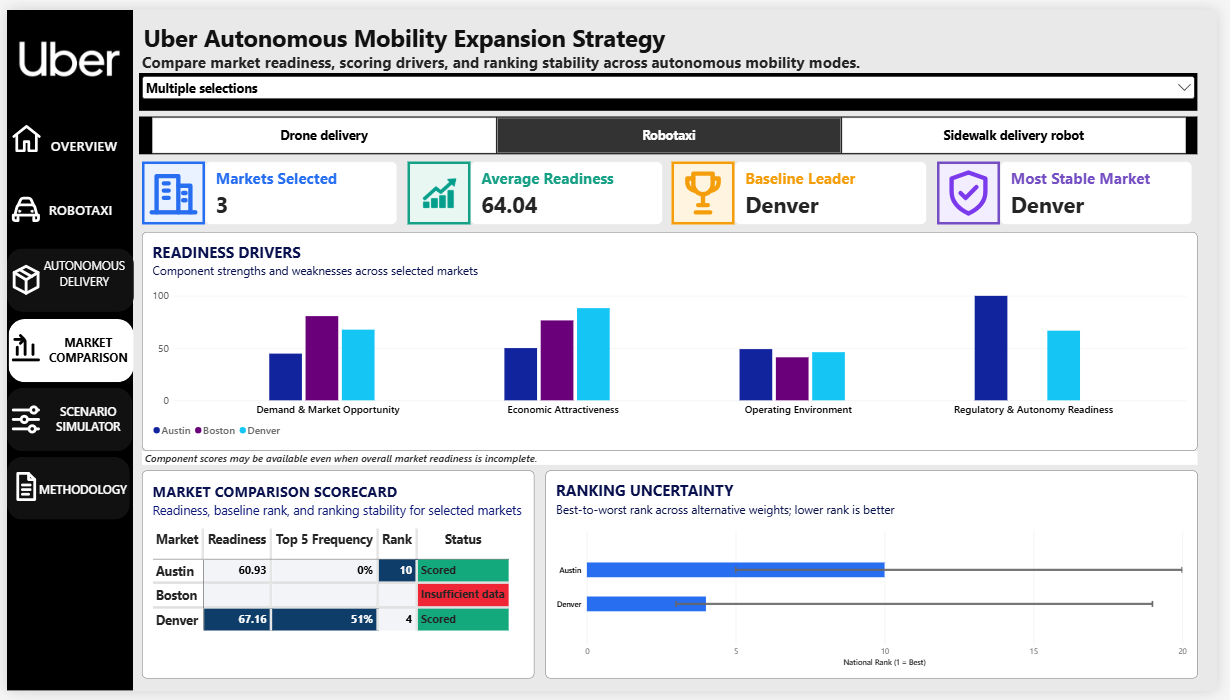

The dashboard page shown, as its layout file describes it:
{"tool":"powerbi","page":{"name":"Market Comparison","canvas":[1920,1080],"ordinal":3},"visuals":[{"type":"shape","box":[0,162.5,198.7,100.8],"z":0},{"type":"cardVisual","fields":{"Data":["_Measures.Markets Selected"]},"box":[315,240,305,100],"z":0,"group":"g4"},{"type":"cardVisual","fields":{"Data":["_Measures.Baseline Leader"]},"box":[1155,240,305,100],"z":0,"group":"g6"},{"type":"shape","box":[0,272.5,200,100],"z":0,"group":"g8"},{"type":"shape","box":[0,377.5,201.3,100.4],"z":0,"group":"g9"},{"type":"shape","box":[2.5,490,198.7,100.4],"z":0,"group":"g7"},{"type":"shape","box":[0,600,198.7,100.4],"z":0,"group":"g2"},{"type":"shape","box":[0,710,194.8,99.2],"z":0,"group":"g3"},{"type":"shape","box":[0,0,200,1080],"z":1000},{"type":"image","box":[215,240,100,100],"z":1000,"group":"g4"},{"type":"image","box":[1055,240,100,100],"z":1000,"group":"g6"},{"type":"textbox","box":[216,0,1704,96],"z":2000},{"type":"textbox","box":[215,47.5,1500,72.5],"z":3000},{"type":"image","box":[0,270,60,90],"z":3000,"group":"g8"},{"type":"actionButton","box":[528.9,447.9,200,100],"z":4000},{"type":"image","box":[0,0,200,165.6],"z":5000},{"type":"actionButton","box":[0,160,200,100],"z":6000},{"type":"group","id":"g1","title":"Group 3","box":[0,377.5,200,100],"z":7000},{"type":"group","id":"g2","title":"Group 6","box":[0,600,200,100],"z":8000},{"type":"group","id":"g3","title":"Group 7","box":[0,710,200,99.2],"z":9000},{"type":"actionButton","box":[0,905,198.4,93.5],"z":10000},{"type":"actionButton","box":[0,272.5,200,100],"z":11000},{"type":"actionButton","box":[0,502.5,198.4,102],"z":12000},{"type":"actionButton","box":[0,605,200,100],"z":13000},{"type":"textbox","box":[57.5,200,130.4,37.8],"z":14000},{"type":"actionButton","box":[0,710,200,100],"z":15000},{"type":"image","box":[2.5,165,57.5,80],"z":16000},{"type":"slicer","fields":{"Values":["PBI_DIM_MARKET.MARKET_SHORT_NAME"]},"box":[210,100,1680,60],"z":17000},{"type":"slicer","title":"Select Autonomous Mobility Mode","fields":{"Values":["PBI_DIM_MODE.MODE_NAME"]},"box":[210,170,1680,60],"z":18000},{"type":"cardVisual","fields":{"Data":["_Measures.Most Stable Market"]},"box":[1575,240,305,100],"z":19000},{"type":"image","box":[1475,240,100,100],"z":20000},{"type":"textbox","box":[38.8,303.8,157.5,45],"z":20000,"group":"g8"},{"type":"textbox","box":[53.2,391,140.7,55.2],"z":20000,"group":"g9"},{"type":"textbox","box":[60,514.3,138.9,55.2],"z":20000,"group":"g7"},{"type":"textbox","box":[59.5,624.5,138.9,55.2],"z":20000,"group":"g2"},{"type":"textbox","box":[40,747.5,160,35],"z":20000,"group":"g3"},{"type":"group","id":"g4","title":"Group 1","box":[215,240,405,100],"z":21000},{"type":"image","box":[0,389.8,60.8,75.7],"z":21000,"group":"g9"},{"type":"group","id":"g5","title":"Group 8","box":[635,240,405,100],"z":22000},{"type":"group","id":"g6","title":"Group 9","box":[1055,240,405,100],"z":23000},{"type":"image","box":[1.2,612.4,60,75.7],"z":23001,"group":"g2"},{"type":"image","box":[0,719.1,58.8,74.8],"z":23001,"group":"g3"},{"type":"pivotTable","title":"MARKET COMPARISON SCORECARD","fields":{"Rows":["PBI_DIM_MARKET.MARKET_SHORT_NAME"],"Values":["_Measures.Market Readiness Score","_Measures.Top 5 Frequency","_Measures.Selected Baseline Rank","_Measures.Market Score Status"]},"box":[215,730,622.5,330],"z":24000},{"type":"group","id":"g7","title":"Group 5","box":[0,490,200,100],"z":25000},{"type":"cardVisual","fields":{"Data":["_Measures.Average Selected Readiness"]},"box":[735,240,305,100],"z":25005,"group":"g5"},{"type":"image","box":[635,240,100,100],"z":25011,"group":"g5"},{"type":"image","box":[0,490,60,97.3],"z":25017,"group":"g7"},{"type":"group","id":"g8","title":"Group 10","box":[0,270,200,102.5],"z":25020,"group":"g10"},{"type":"group","id":"g9","title":"Group 11","box":[0,377.5,200,100],"z":25020,"group":"g1"},{"type":"group","id":"g10","title":"Group 4","box":[0,270,200,102.5],"z":26000},{"type":"actionButton","box":[0,377.5,200,100],"z":27000},{"type":"clusteredColumnChart","title":"READINESS DRIVERS","fields":{"Category":["PBI_DIM_COMPONENT.COMPONENT_NAME"],"Series":["PBI_DIM_MARKET.MARKET_SHORT_NAME"],"Y":["_Measures.Component Score"]},"box":[215,352.5,1675,347.5],"z":28000},{"type":"textbox","box":[215,700,1675,22],"z":29000},{"type":"clusteredBarChart","title":"RANKING UNCERTAINTY","fields":{"Category":["PBI_DIM_MARKET.MARKET_SHORT_NAME"],"Y":["_Measures.Selected Baseline Rank"]},"box":[855,730,1035,330],"z":30000},{"type":"actionButton","box":[0,277.1,200,92.9],"z":30001,"group":"g10"}]}

Visuals, with their boxes on the page's 1920x1080 design canvas (x1, y1, x2, y2). These are canvas units, not pixel positions in the 1230x700 screenshot, which may show the page scaled, cropped or inside an application window:
shape: left=0, top=162, right=199, bottom=263
cardVisual - _Measures.Markets Selected: left=315, top=240, right=620, bottom=340
cardVisual - _Measures.Baseline Leader: left=1155, top=240, right=1460, bottom=340
shape: left=0, top=272, right=200, bottom=372
shape: left=0, top=378, right=201, bottom=478
shape: left=2, top=490, right=201, bottom=590
shape: left=0, top=600, right=199, bottom=700
shape: left=0, top=710, right=195, bottom=809
shape: left=0, top=0, right=200, bottom=1080
image: left=215, top=240, right=315, bottom=340
image: left=1055, top=240, right=1155, bottom=340
textbox: left=216, top=0, right=1920, bottom=96
textbox: left=215, top=48, right=1715, bottom=120
image: left=0, top=270, right=60, bottom=360
actionButton: left=529, top=448, right=729, bottom=548
image: left=0, top=0, right=200, bottom=166
actionButton: left=0, top=160, right=200, bottom=260
"Group 3" group: left=0, top=378, right=200, bottom=478
"Group 6" group: left=0, top=600, right=200, bottom=700
"Group 7" group: left=0, top=710, right=200, bottom=809
actionButton: left=0, top=905, right=198, bottom=998
actionButton: left=0, top=272, right=200, bottom=372
actionButton: left=0, top=502, right=198, bottom=604
actionButton: left=0, top=605, right=200, bottom=705
textbox: left=58, top=200, right=188, bottom=238
actionButton: left=0, top=710, right=200, bottom=810
image: left=2, top=165, right=60, bottom=245
slicer - PBI_DIM_MARKET.MARKET_SHORT_NAME: left=210, top=100, right=1890, bottom=160
"Select Autonomous Mobility Mode" slicer: left=210, top=170, right=1890, bottom=230
cardVisual - _Measures.Most Stable Market: left=1575, top=240, right=1880, bottom=340
image: left=1475, top=240, right=1575, bottom=340
textbox: left=39, top=304, right=196, bottom=349
textbox: left=53, top=391, right=194, bottom=446
textbox: left=60, top=514, right=199, bottom=570
textbox: left=60, top=624, right=198, bottom=680
textbox: left=40, top=748, right=200, bottom=782
"Group 1" group: left=215, top=240, right=620, bottom=340
image: left=0, top=390, right=61, bottom=466
"Group 8" group: left=635, top=240, right=1040, bottom=340
"Group 9" group: left=1055, top=240, right=1460, bottom=340
image: left=1, top=612, right=61, bottom=688
image: left=0, top=719, right=59, bottom=794
"MARKET COMPARISON SCORECARD" pivotTable: left=215, top=730, right=838, bottom=1060
"Group 5" group: left=0, top=490, right=200, bottom=590
cardVisual - _Measures.Average Selected Readiness: left=735, top=240, right=1040, bottom=340
image: left=635, top=240, right=735, bottom=340
image: left=0, top=490, right=60, bottom=587
"Group 10" group: left=0, top=270, right=200, bottom=372
"Group 11" group: left=0, top=378, right=200, bottom=478
"Group 4" group: left=0, top=270, right=200, bottom=372
actionButton: left=0, top=378, right=200, bottom=478
"READINESS DRIVERS" clusteredColumnChart: left=215, top=352, right=1890, bottom=700
textbox: left=215, top=700, right=1890, bottom=722
"RANKING UNCERTAINTY" clusteredBarChart: left=855, top=730, right=1890, bottom=1060
actionButton: left=0, top=277, right=200, bottom=370
